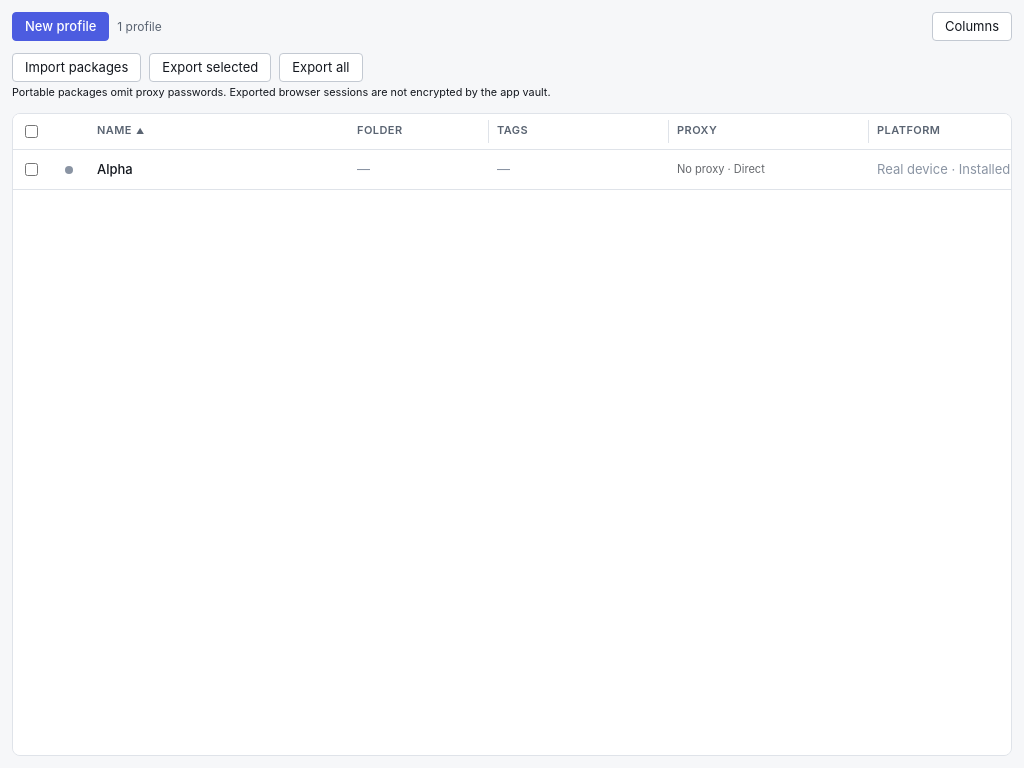
Test: requires confirmation before picking an import file and reports the import
Right-click the button "Alpha".
right_click(115, 169)  # box [97,160,133,178]
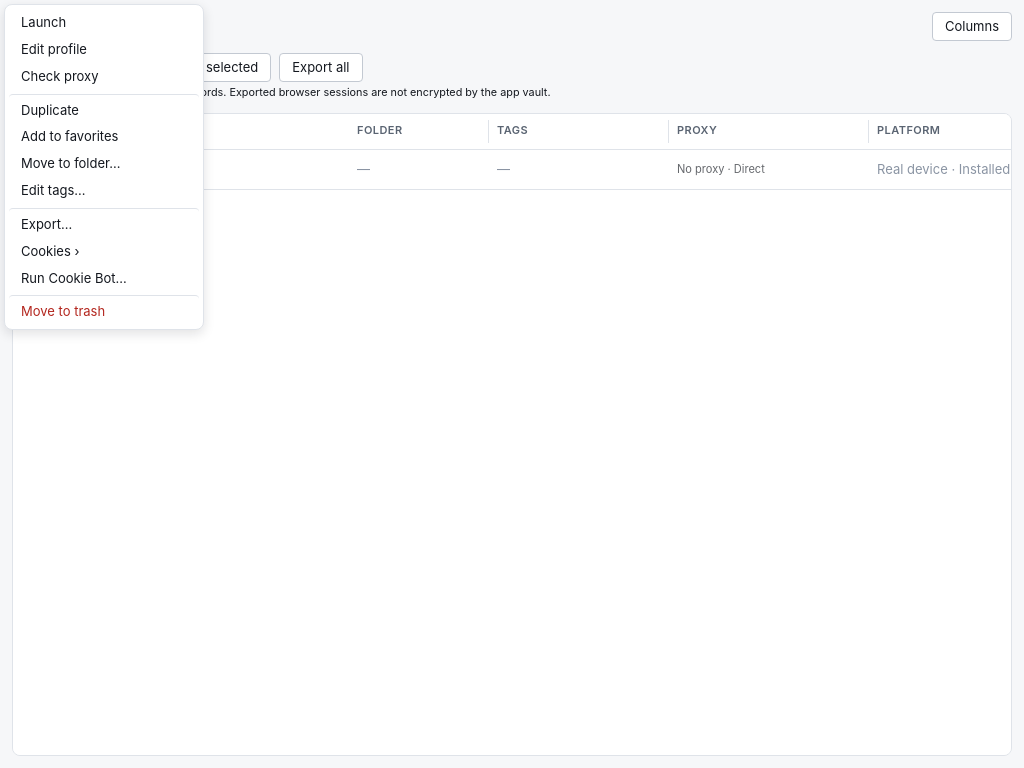
Click the menu item "Cookies ›".
click(104, 251)  # box [9,238,199,265]
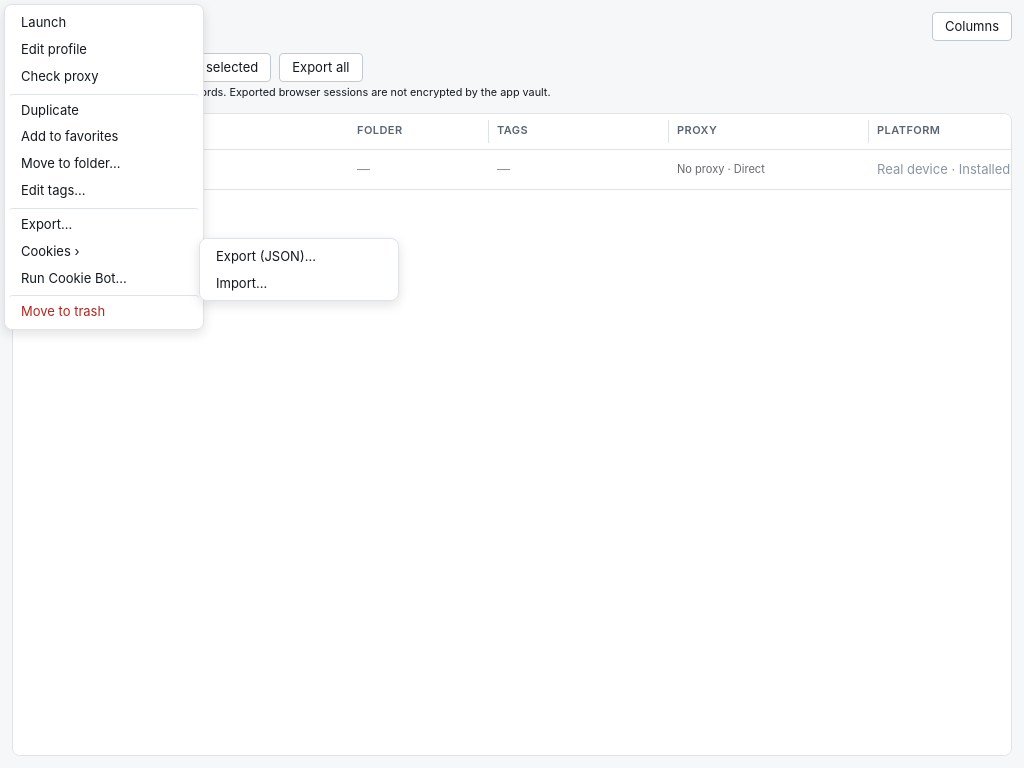
Click the menu item "Import…".
click(299, 283)  # box [204,270,394,296]
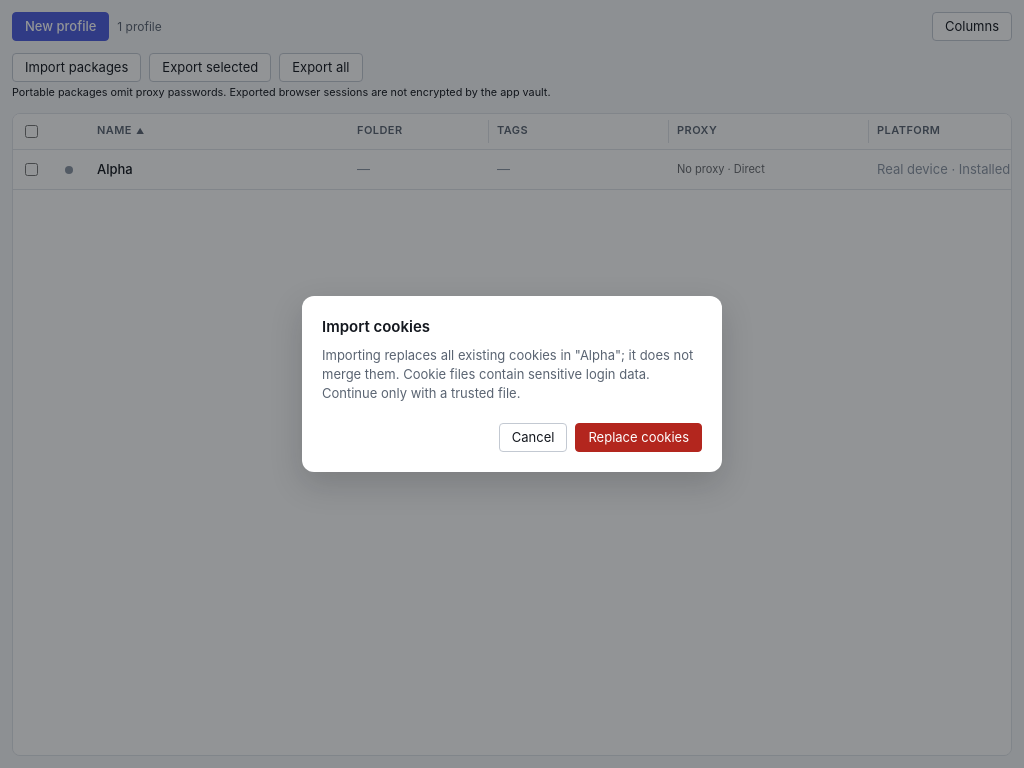
Expected: the dialog "Import cookies" shows "replaces", [322,347,693,401]
Click the button "Replace cookies".
click(639, 437)  # box [575,423,702,452]
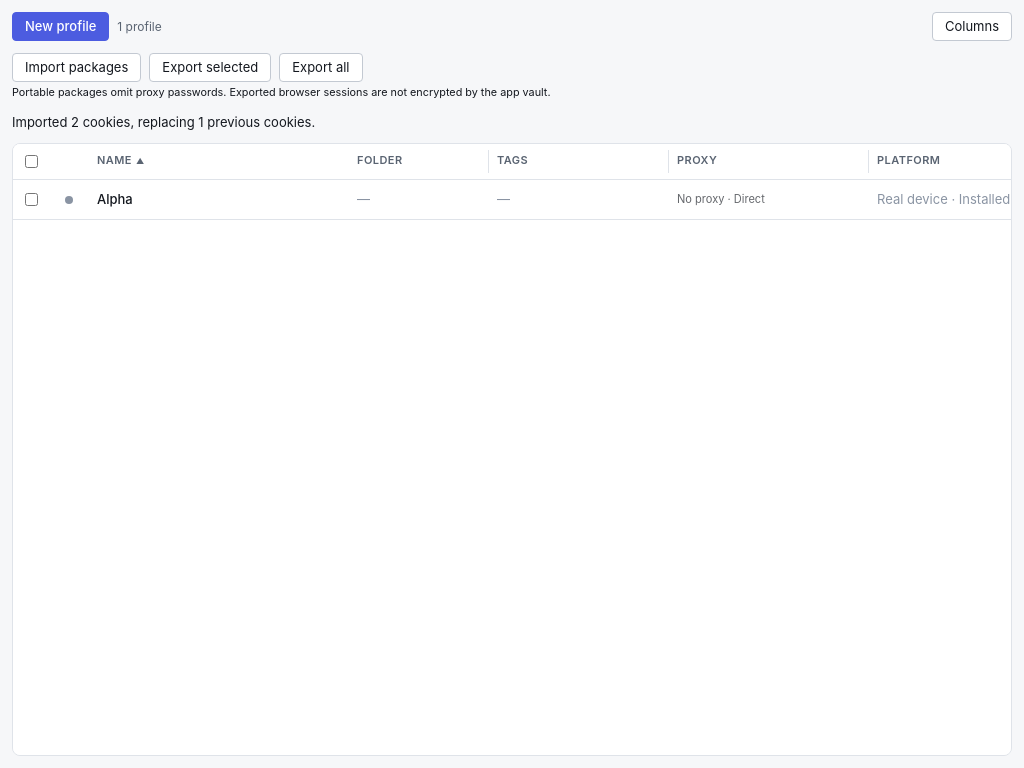
Expected: the text "Imported 2 cookies, replacing 1 previous cookies." is shown, [12,114,315,130]
